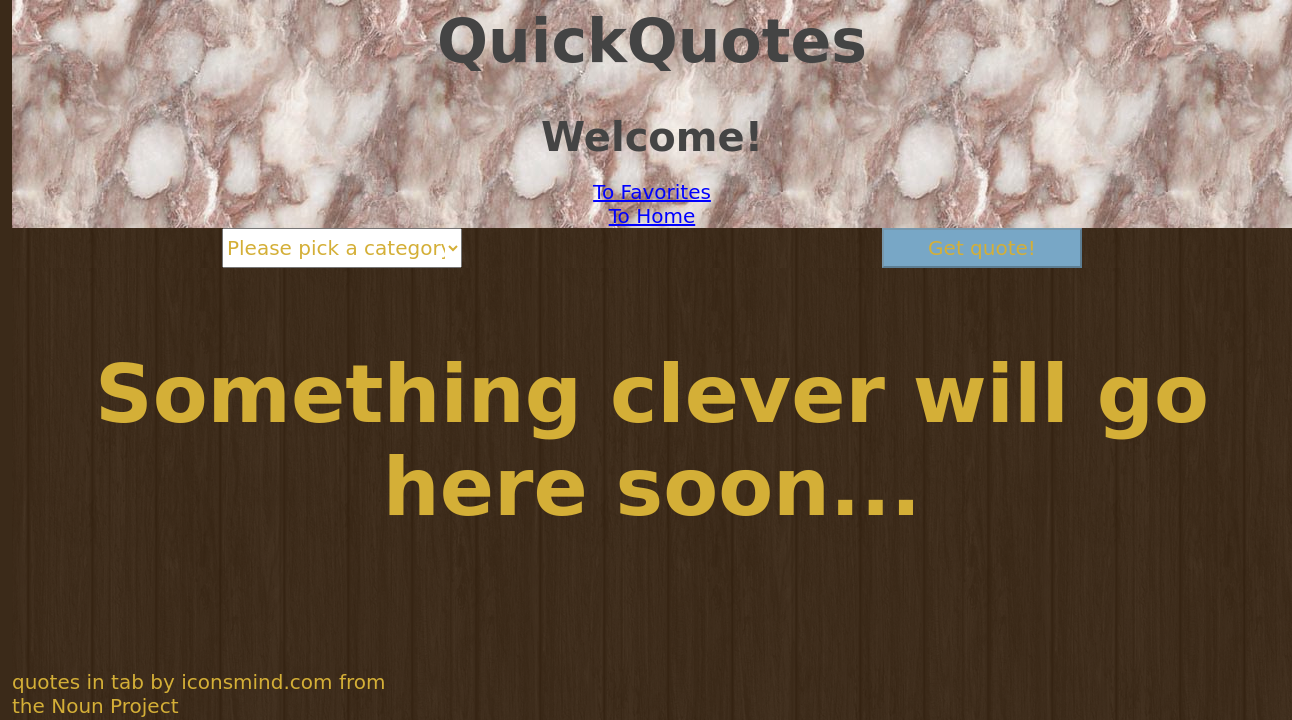
Scenario: the main view › should be able to search for a quote by category
The image size is (1292, 720).
Select "Wisdom" in the dropdown: (342, 248) [222,228,462,268]
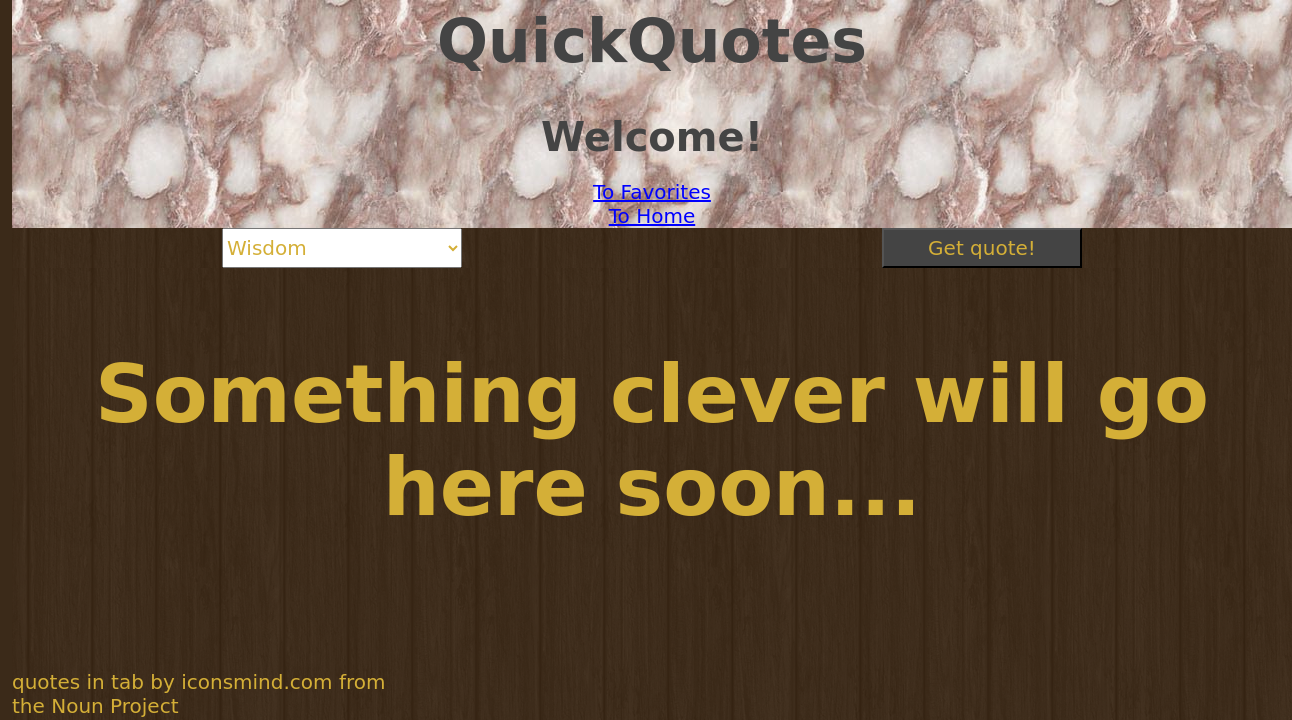
Click the button "Get quote!": click(982, 248) [882,228,1082,268]
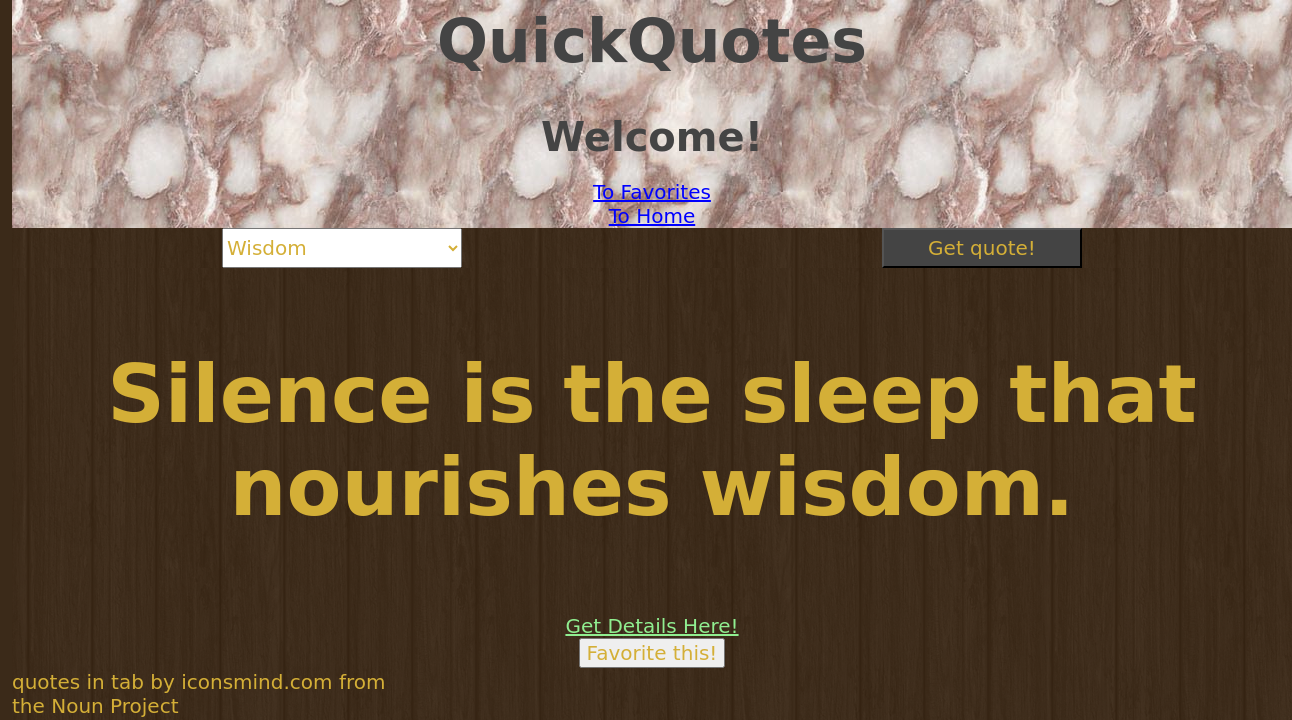
Result: the heading "Something clever will go here soon..." no longer shows "Something clever will go here soon..."
Result: the heading "Silence is the sleep that nourishes wisdom." is shown at [12,348,1291,534]
